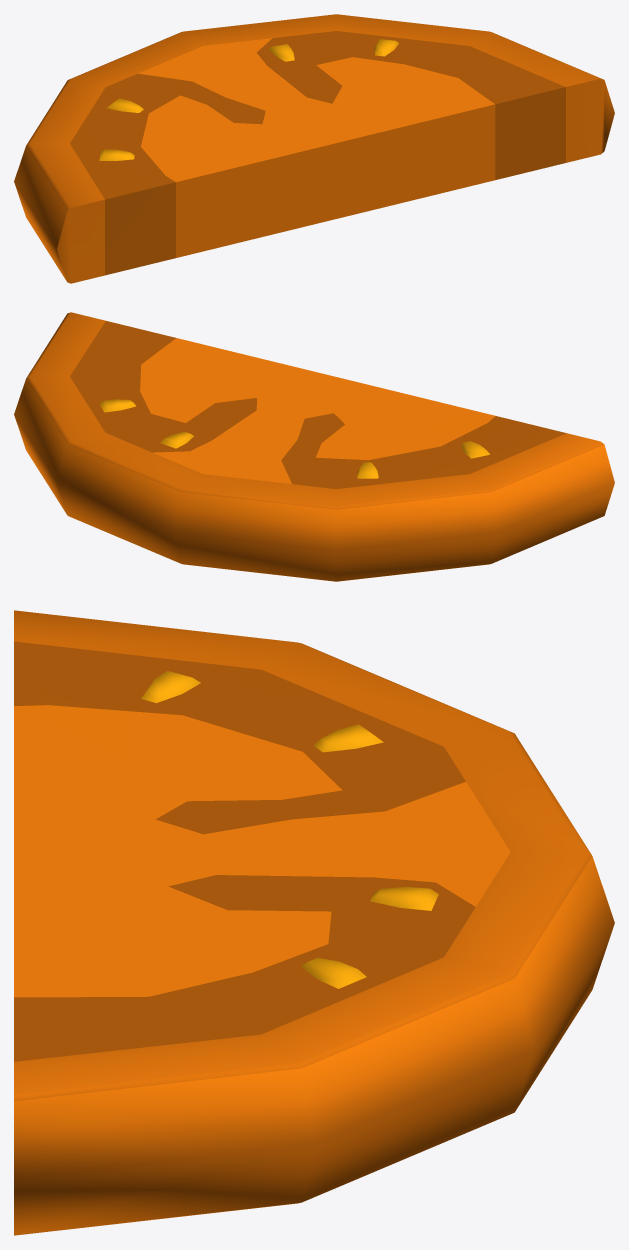
The model's file is Tomato_half_yellow_Hotdog.fbx.
3 views of the same model, one above another, from view 1: azimuth 30°, elevation 25°; view 2: azimuth 150°, elevation 25°; view 3: azimuth 270°, elevation 25° (orthographic). The views are drawn at different scales.
Visible parts, largest first — view 1: Tomato_half_yellow_Hotdog; view 2: Tomato_half_yellow_Hotdog; view 3: Tomato_half_yellow_Hotdog.
Part boxes in pixels (x1=…): Tomato_half_yellow_Hotdog: x1=14, y1=14, x2=614, y2=283; Tomato_half_yellow_Hotdog: x1=14, y1=312, x2=614, y2=581; Tomato_half_yellow_Hotdog: x1=14, y1=610, x2=614, y2=1235.
Size of the model in its own units: 57.33 by 28.6 by 8.21.
